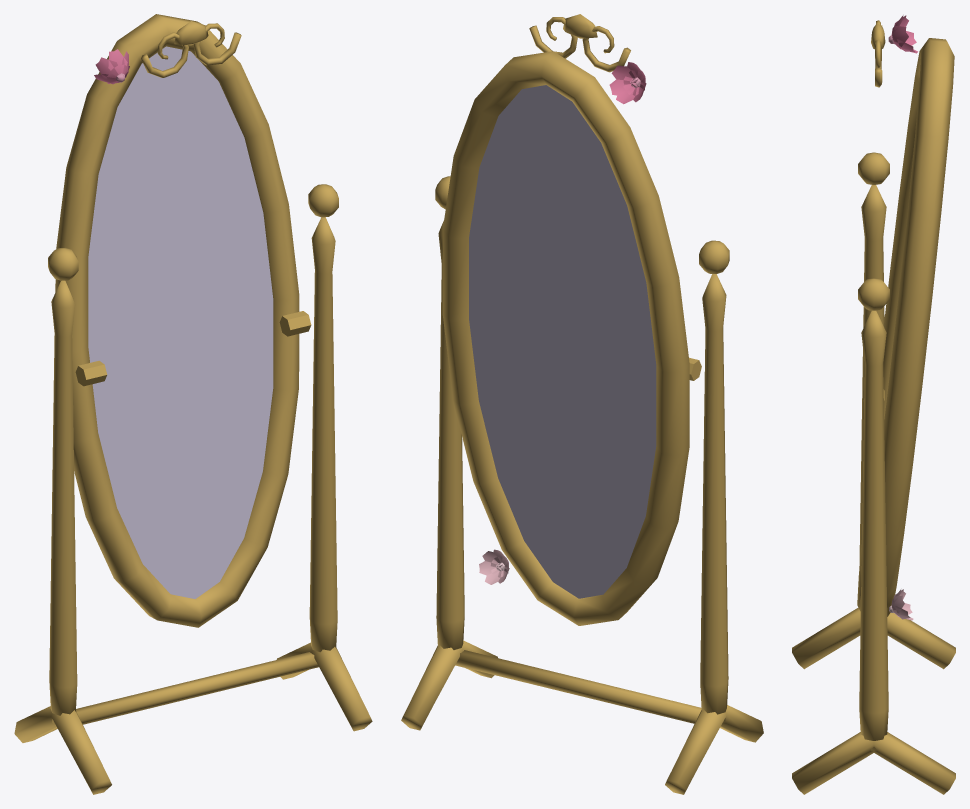
The model's file is cheval_mirror.glb.
3 renders of one model, left to right at view 1: azimuth 30°, elevation 25°; view 2: azimuth 150°, elevation 25°; view 3: azimuth 270°, elevation 25°, orthographic. The views are drawn at different scales.
Visible parts, largest first — view 1: cheval_mirror; view 2: cheval_mirror; view 3: cheval_mirror.
Boxes of the visible parts, <box> form: cheval_mirror: <box>14,14,372,794</box>; cheval_mirror: <box>401,14,763,794</box>; cheval_mirror: <box>792,15,955,794</box>.
Size of what is drawn, in the model's own units: 0.8 by 1.9 by 0.4.
